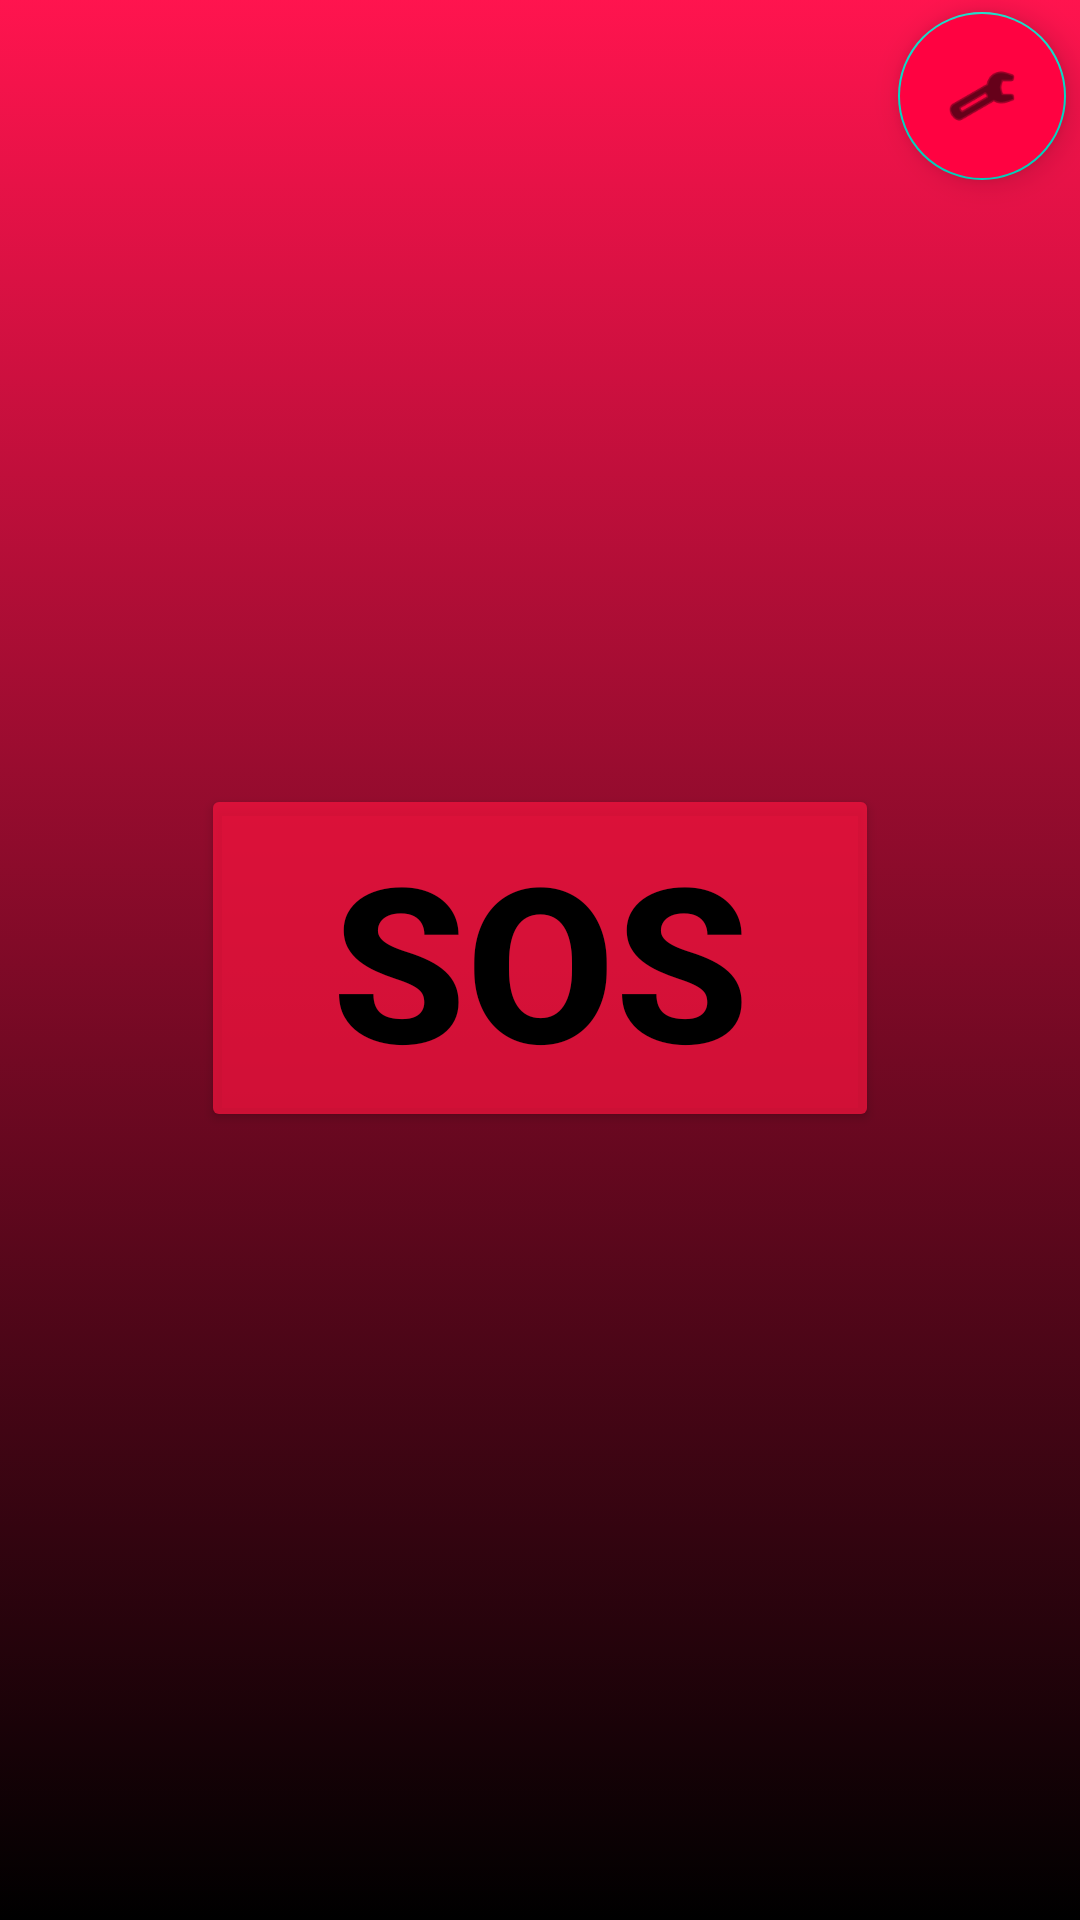

Screen size 1080×1920. Icon name, then its center in pixels as point (x, y):
preferences: point (982, 96)
